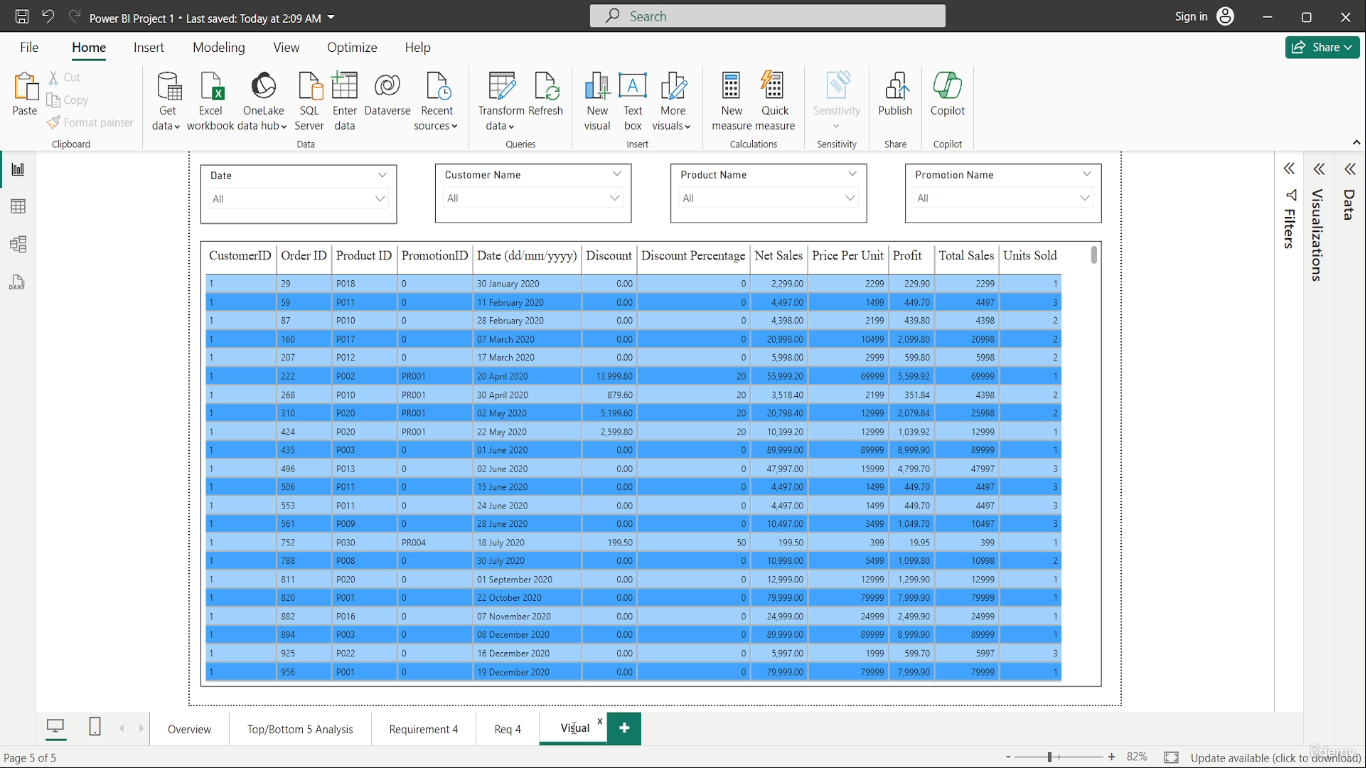

What the dashboard file says about the page in this screenshot:
{"tool":"powerbi","page":{"name":"Table visual","canvas":[1280,720],"ordinal":4},"visuals":[{"type":"tableEx","fields":{"Values":["Fact table.Order ID","Fact table.CustomerID","Fact table.Date ","Fact table.Discount Percentage","Fact table.Discount Value","Fact table.Net Sales","Fact table.Price per unit (INR)","Fact table.Product ID","Fact table.Profit","Fact table.PromotionID","Fact table.Total sales","Fact table.Units Sold"]},"box":[0,133.8,1280,586.2],"z":0},{"type":"slicer","fields":{"Values":["Date Table 1.Date"]},"box":[0,0,284.6,78.5],"z":1000},{"type":"slicer","fields":{"Values":["Dim Customers.Customer Name"]},"box":[313.8,0,284.6,78.5],"z":2000},{"type":"slicer","fields":{"Values":["Dim Product.Product Name"]},"box":[640,0,284.6,78.5],"z":3000},{"type":"actionButton","box":[0,0,100,40],"z":4000},{"type":"slicer","fields":{"Values":["Dim Promotion.Promotion Name"]},"box":[970.8,0,247.7,78.5],"z":5000}]}

Visuals, with their boxes on the page's 1280x720 design canvas (x1, y1, x2, y2). These are canvas units, not pixel positions in the 1366x768 screenshot, which may show the page scaled, cropped or inside an application window:
tableEx - Fact table.Order ID x Fact table.CustomerID: box(0, 134, 1280, 720)
slicer - Date Table 1.Date: box(0, 0, 285, 78)
slicer - Dim Customers.Customer Name: box(314, 0, 598, 78)
slicer - Dim Product.Product Name: box(640, 0, 925, 78)
actionButton: box(0, 0, 100, 40)
slicer - Dim Promotion.Promotion Name: box(971, 0, 1218, 78)
